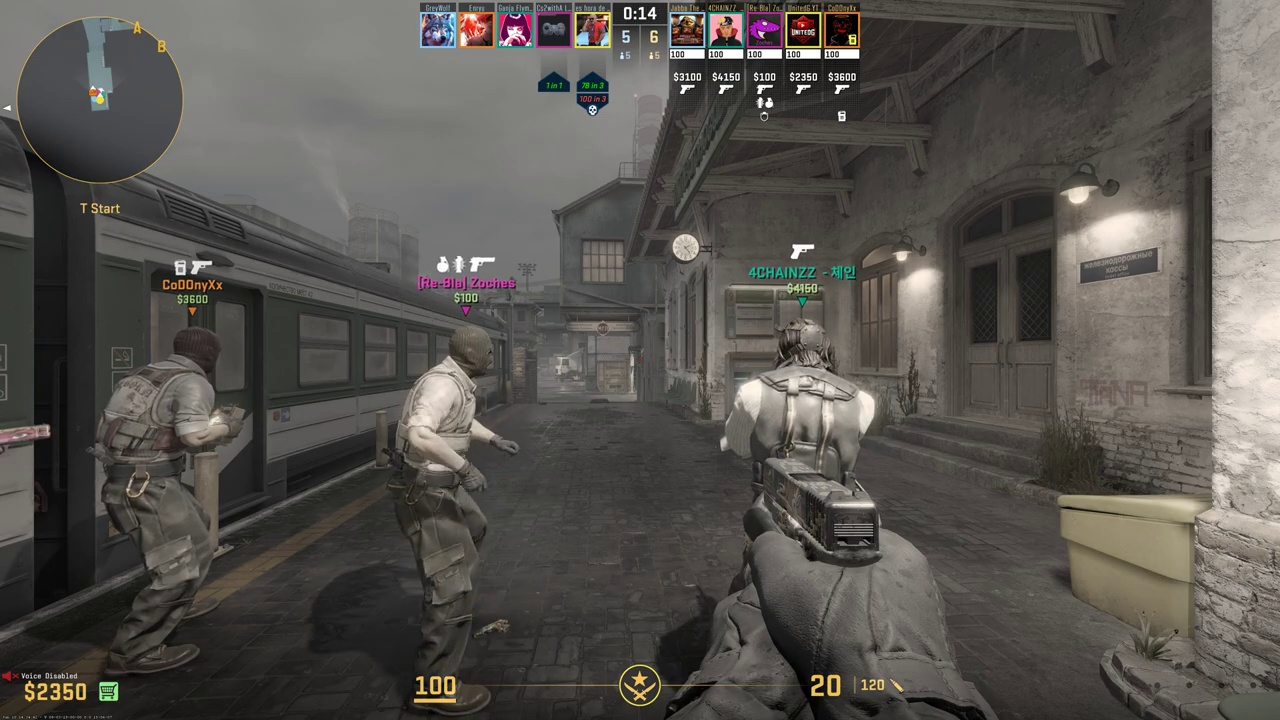Terrorist: (100, 327, 237, 676), (388, 327, 511, 707), (744, 318, 875, 536)
